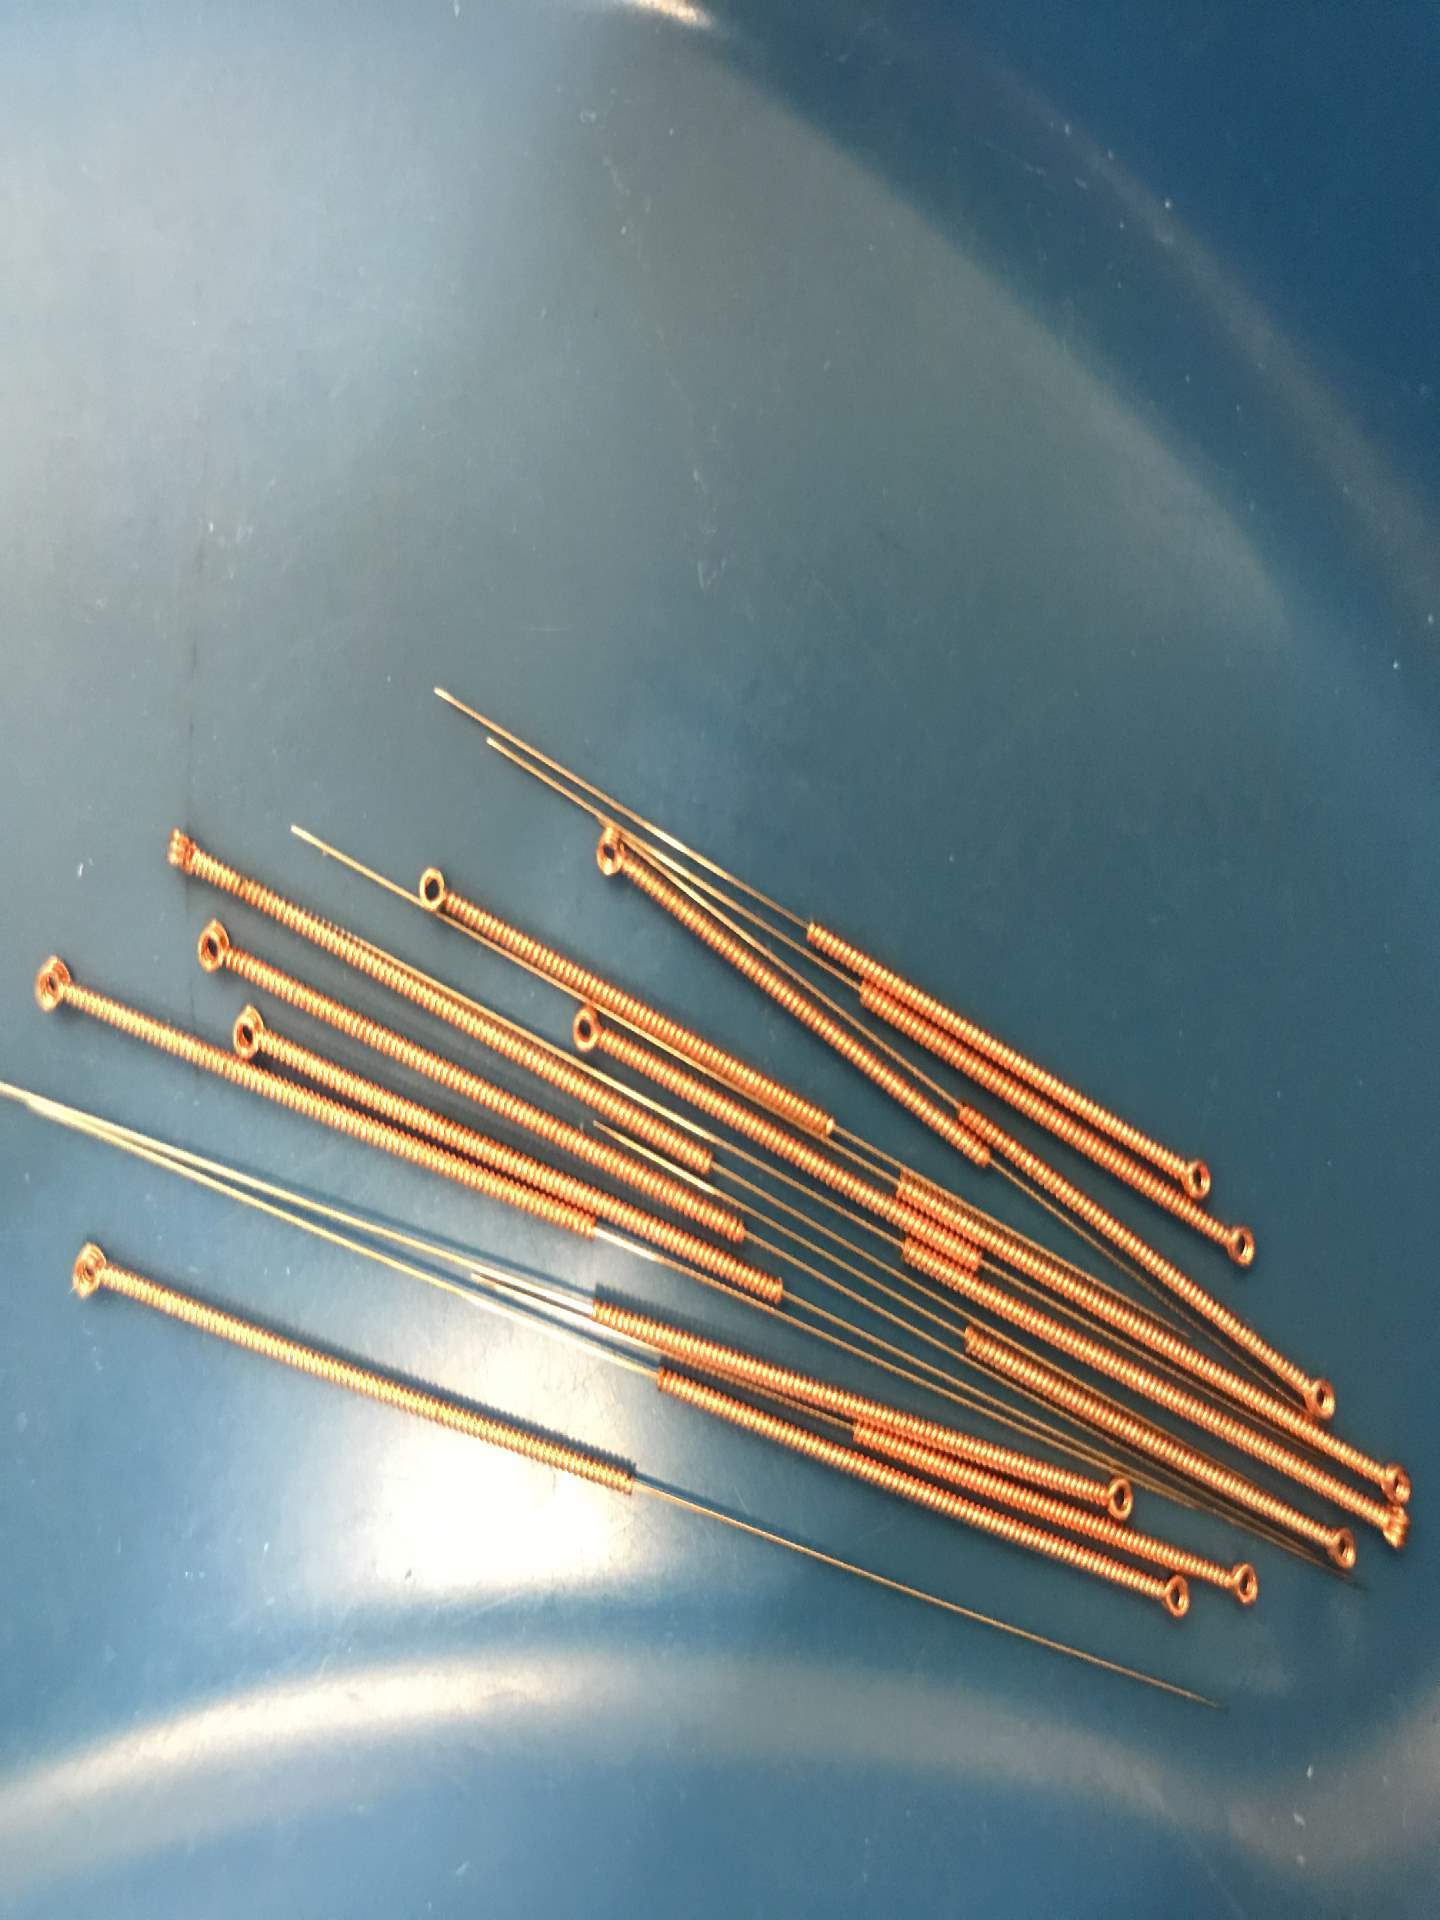needle: (573, 810, 659, 892), (12, 940, 86, 1034), (50, 1231, 130, 1317), (178, 907, 253, 990), (396, 853, 473, 928), (1204, 1545, 1277, 1621), (147, 813, 216, 889), (1289, 1346, 1348, 1421), (1134, 1566, 1204, 1627), (1360, 1442, 1420, 1507), (1207, 1209, 1266, 1276), (225, 1001, 283, 1069), (1311, 1519, 1370, 1581), (563, 999, 617, 1064), (1358, 1498, 1422, 1553), (1091, 1469, 1142, 1528), (1169, 1141, 1218, 1203)
